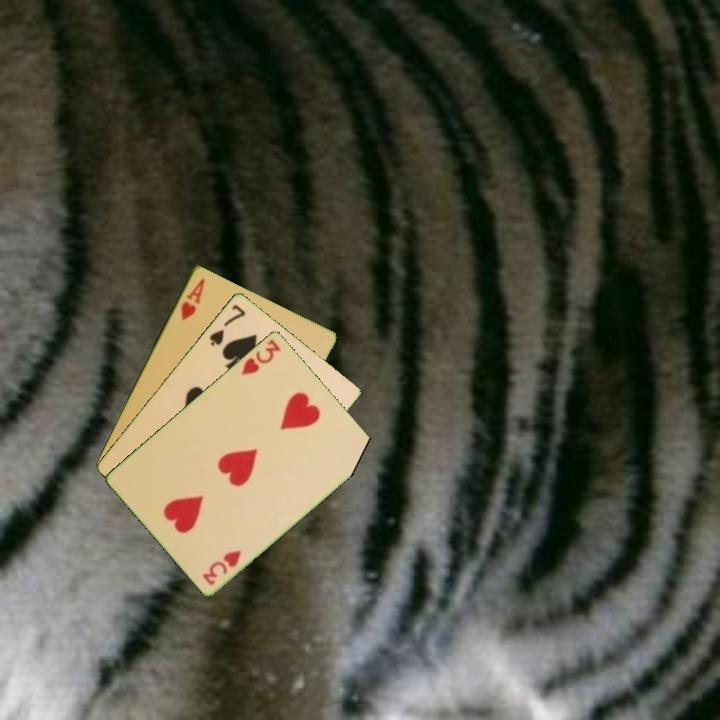3h: (238, 335, 284, 378), (199, 546, 244, 588)
7s: (206, 300, 248, 349)
Ah: (177, 274, 208, 323)
